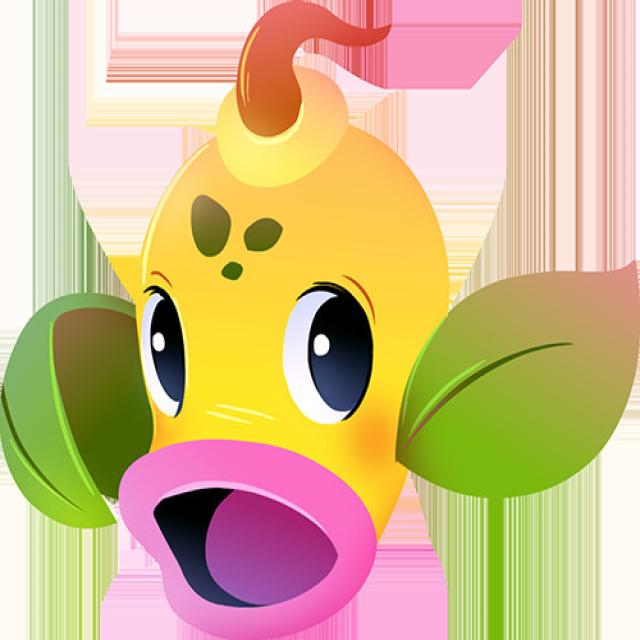Weepinbell: (112, 65, 455, 634)
